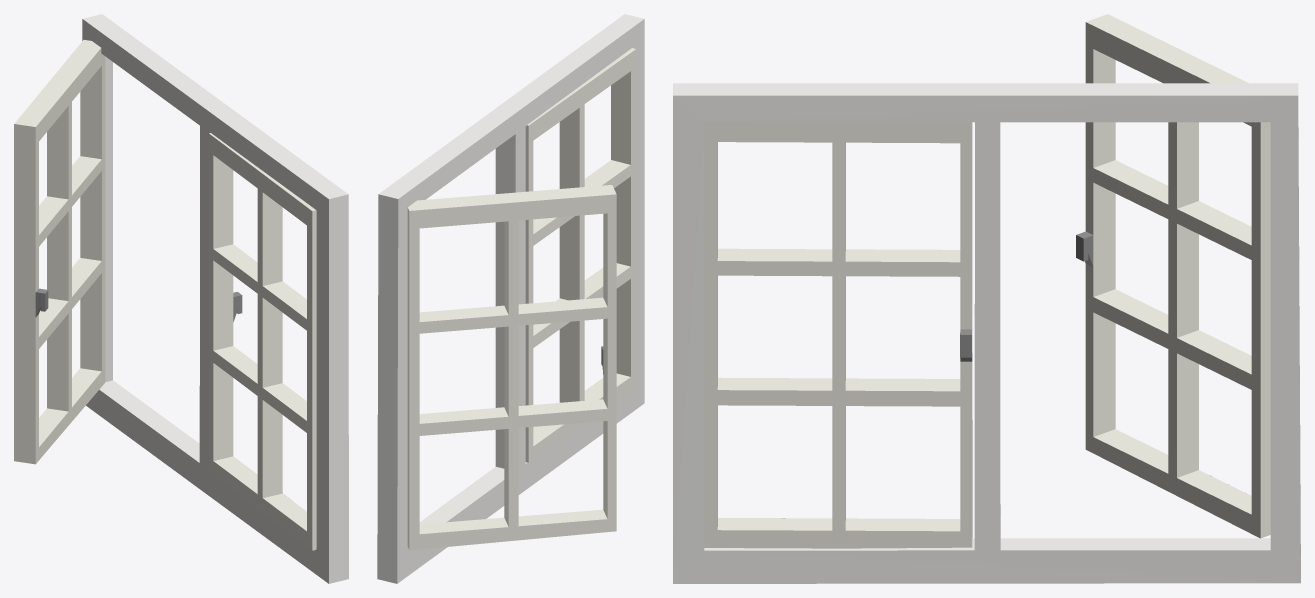
File: Window_Right_Half_Open.fbx
3 views of the same model, side by side, from view 1: azimuth 30°, elevation 25°; view 2: azimuth 150°, elevation 25°; view 3: azimuth 270°, elevation 25° (orthographic). The views are drawn at different scales.
Parts seen in each view (by area): view 1: polySurface8; view 2: polySurface8; view 3: polySurface8.
Part boxes in pixels (left/top/right/bottom): polySurface8: left=14, top=14, right=348, bottom=583; polySurface8: left=377, top=14, right=644, bottom=583; polySurface8: left=673, top=14, right=1300, bottom=583.
Bounding box in the file's own units: 8.56 × 18.51 × 21.58.
